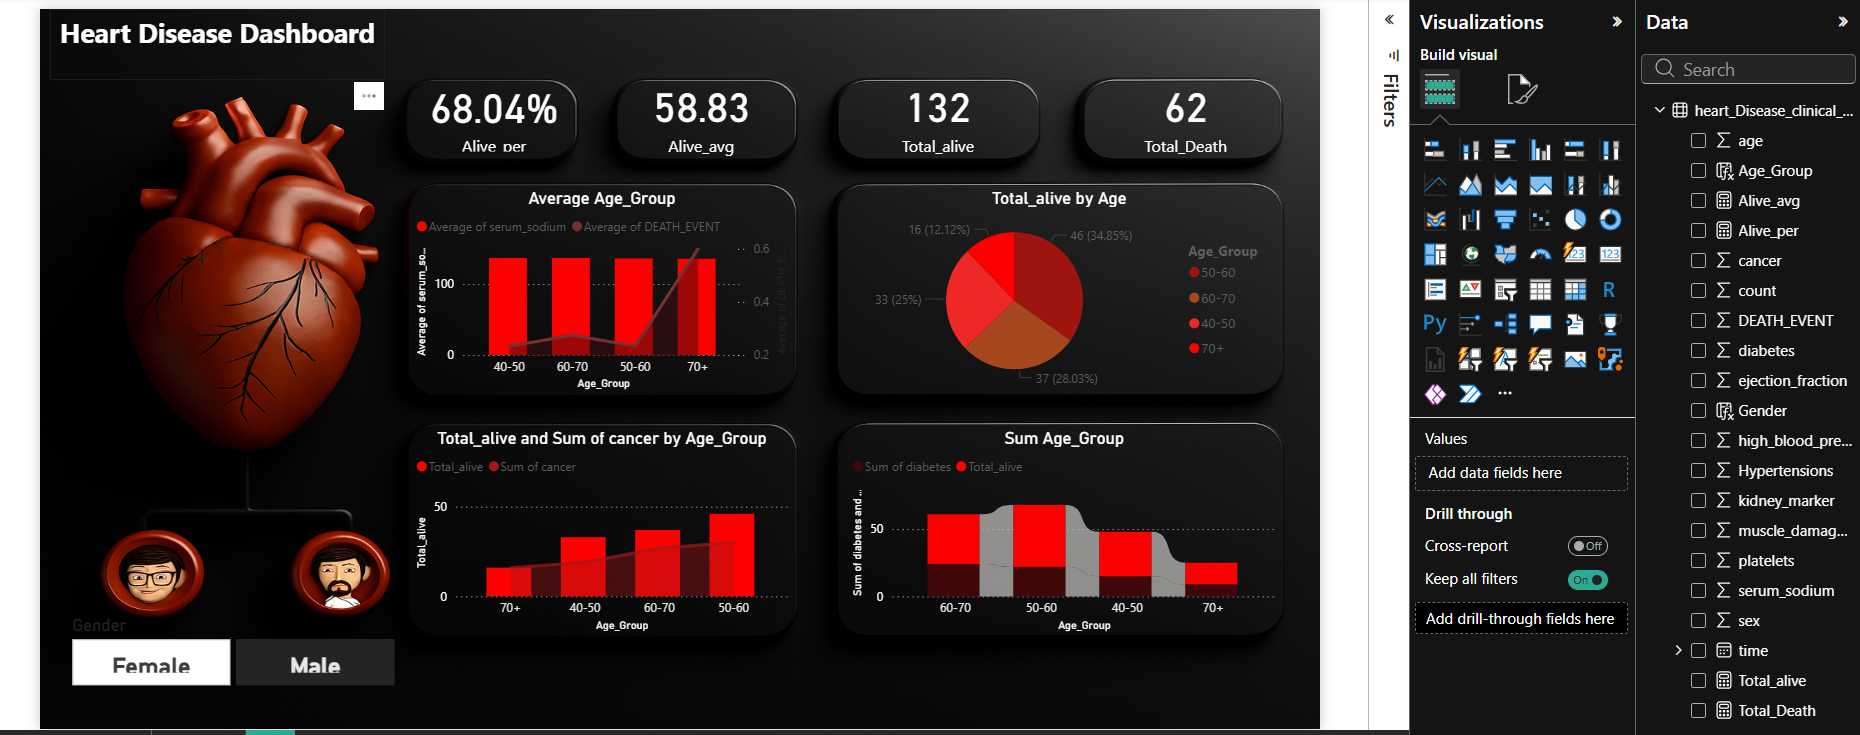

What the dashboard file says about the page in this screenshot:
{"tool":"powerbi","page":{"name":"Page 1","canvas":[1280,720],"ordinal":0},"visuals":[{"type":"textbox","box":[9.6,0,334.8,71.4],"z":0},{"type":"card","fields":{"Values":["heart_Disease_clinical_records_.Alive_prc"]},"box":[371.9,64.5,166,82.3],"z":1000},{"type":"card","fields":{"Values":["heart_Disease_clinical_records_.Alive_avg"]},"box":[547.5,57.6,227.8,96.1],"z":2000},{"type":"card","fields":{"Values":["heart_Disease_clinical_records_.Total_alive"]},"box":[784.9,57.6,226.4,96.1],"z":3000},{"type":"card","fields":{"Values":["heart_Disease_clinical_records_.Total_Death"]},"box":[1036,57.6,219.6,96.1],"z":4000},{"type":"lineClusteredColumnComboChart","fields":{"Y":["heart_Disease_clinical_records_.Total_alive"],"Y2":["Sum(heart_Disease_clinical_records_.cancer)"],"Category":["heart_Disease_clinical_records_.Age_Group"]},"box":[371.9,418.5,381.5,208.6],"z":5000},{"type":"lineClusteredColumnComboChart","title":"Average Age_Group","fields":{"Category":["heart_Disease_clinical_records_.Age_Group"],"Y":["Avg(heart_Disease_clinical_records_.serum_sodium)"],"Y2":["Avg(heart_Disease_clinical_records_.DEATH_EVENT)"]},"box":[371.9,178.4,381.5,207.2],"z":6000},{"type":"pieChart","title":"Total_alive by Age","fields":{"Category":["heart_Disease_clinical_records_.Age_Group"],"Y":["heart_Disease_clinical_records_.Total_alive"]},"box":[795.9,178.4,446,207.2],"z":7000},{"type":"ribbonChart","title":"Sum  Age_Group","fields":{"Category":["heart_Disease_clinical_records_.Age_Group"],"Y":["Sum(heart_Disease_clinical_records_.diabetes)","heart_Disease_clinical_records_.Total_alive"]},"box":[807.7,418.7,433.5,208.7],"z":8000},{"type":"advancedSlicerVisual","fields":{"Values":["heart_Disease_clinical_records_.Gender"]},"box":[27.4,606.5,333.4,75.5],"z":9000}]}

Visuals, with their boxes on the page's 1280x720 design canvas (x1, y1, x2, y2). These are canvas units, not pixel positions in the 1860x735 screenshot, which may show the page scaled, cropped or inside an application window:
textbox: detection(10, 0, 344, 71)
card - heart_Disease_clinical_records_.Alive_prc: detection(372, 64, 538, 147)
card - heart_Disease_clinical_records_.Alive_avg: detection(548, 58, 775, 154)
card - heart_Disease_clinical_records_.Total_alive: detection(785, 58, 1011, 154)
card - heart_Disease_clinical_records_.Total_Death: detection(1036, 58, 1256, 154)
lineClusteredColumnComboChart - heart_Disease_clinical_records_.Total_alive x Sum(heart_Disease_clinical_records_.cancer): detection(372, 418, 753, 627)
"Average Age_Group" lineClusteredColumnComboChart: detection(372, 178, 753, 386)
"Total_alive by Age" pieChart: detection(796, 178, 1242, 386)
"Sum  Age_Group" ribbonChart: detection(808, 419, 1241, 627)
advancedSlicerVisual - heart_Disease_clinical_records_.Gender: detection(27, 606, 361, 682)
